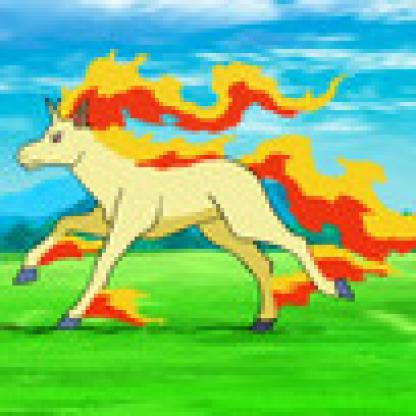Rapidash: (15, 29, 407, 359)
